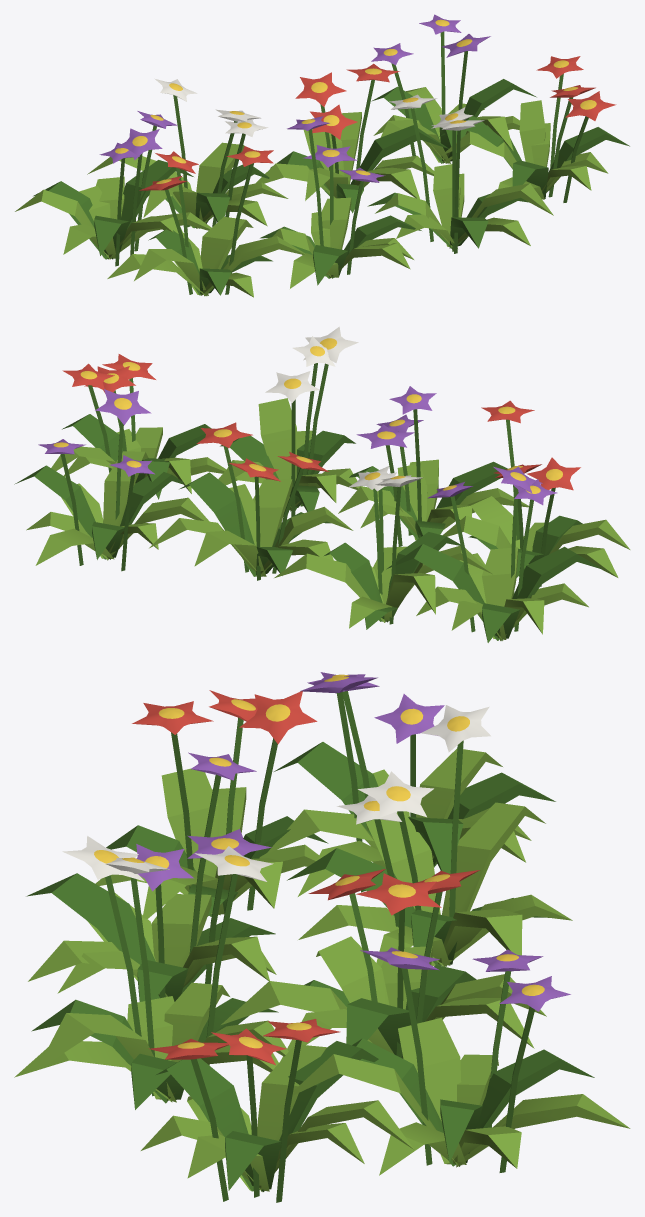
The model's file is Flowers.fbx.
The picture shows the model from 3 angles, top to bottom: view 1: azimuth 30°, elevation 25°; view 2: azimuth 150°, elevation 25°; view 3: azimuth 270°, elevation 25°; orthographic projection. The views are drawn at different scales.
Visible parts, largest first — view 1: Flowers_Mesh; view 2: Flowers_Mesh; view 3: Flowers_Mesh.
Part boxes in pixels (x1=…): Flowers_Mesh: x1=15, y1=14, x2=629, y2=297; Flowers_Mesh: x1=14, y1=326, x2=630, y2=642; Flowers_Mesh: x1=14, y1=672, x2=630, y2=1202.
Bounding box in the file's own units: 1.31 × 0.3501 × 0.8127.
